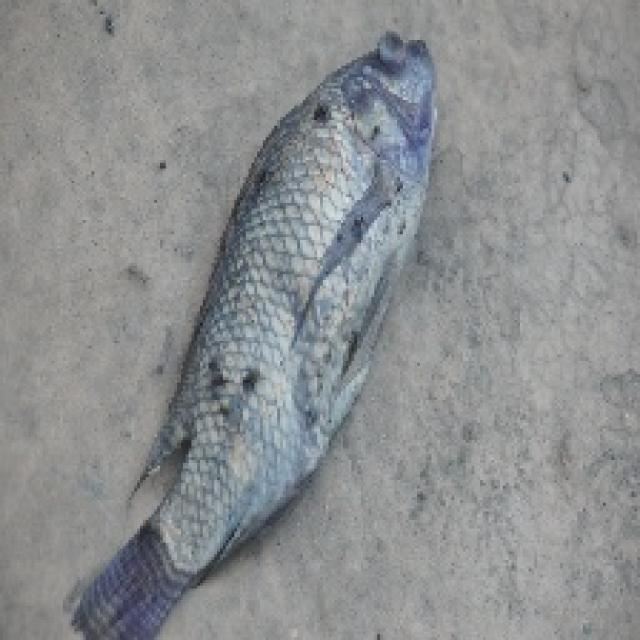Non-Fresh: (141, 1, 451, 623)
